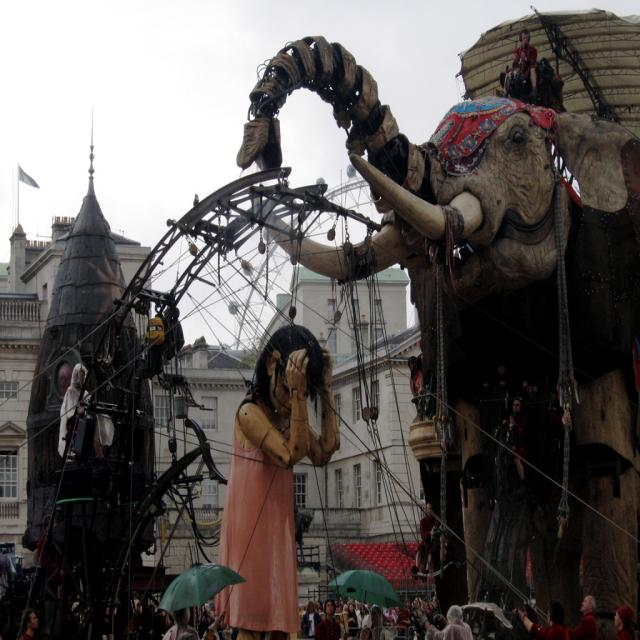elephant: (238, 33, 640, 607)
